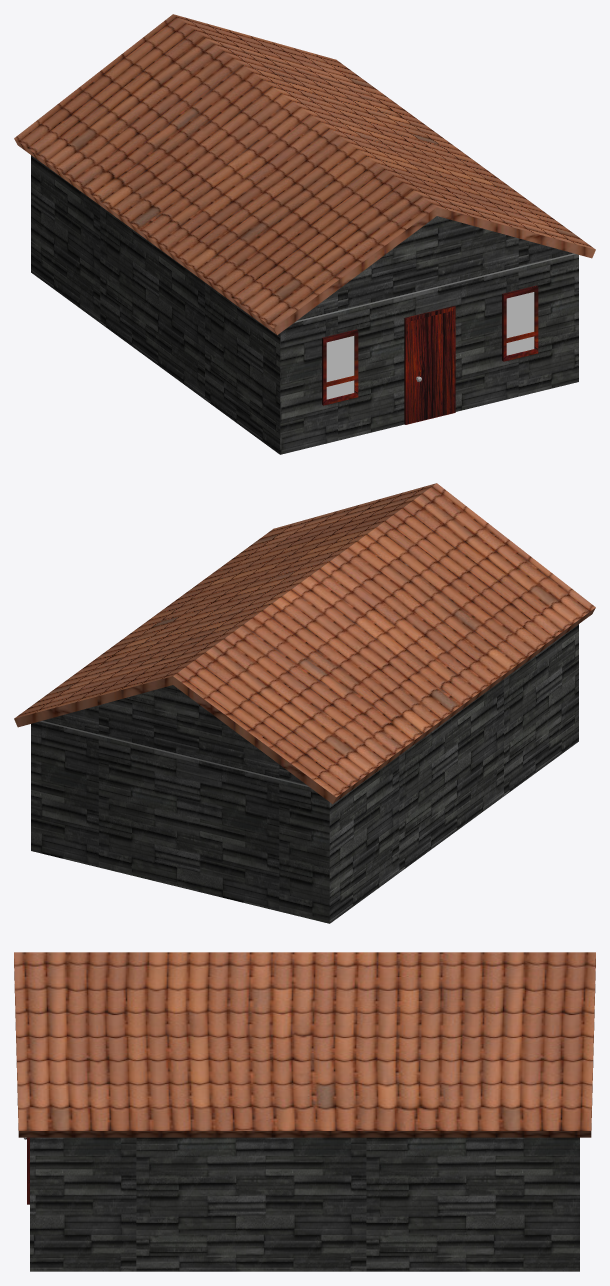
Rendered from HOUSE_05.fbx.
The picture shows the model from 3 angles, top to bottom: view 1: azimuth 30°, elevation 25°; view 2: azimuth 150°, elevation 25°; view 3: azimuth 270°, elevation 25°; orthographic projection. The views are drawn at different scales.
Parts seen in each view (by area): view 1: HOUSE_05; view 2: HOUSE_05; view 3: HOUSE_05.
Part boxes in pixels (x1=…): HOUSE_05: x1=14, y1=14, x2=595, y2=454; HOUSE_05: x1=14, y1=483, x2=595, y2=923; HOUSE_05: x1=14, y1=952, x2=595, y2=1271.
Size of the model in its own units: 641 by 411 by 908.
